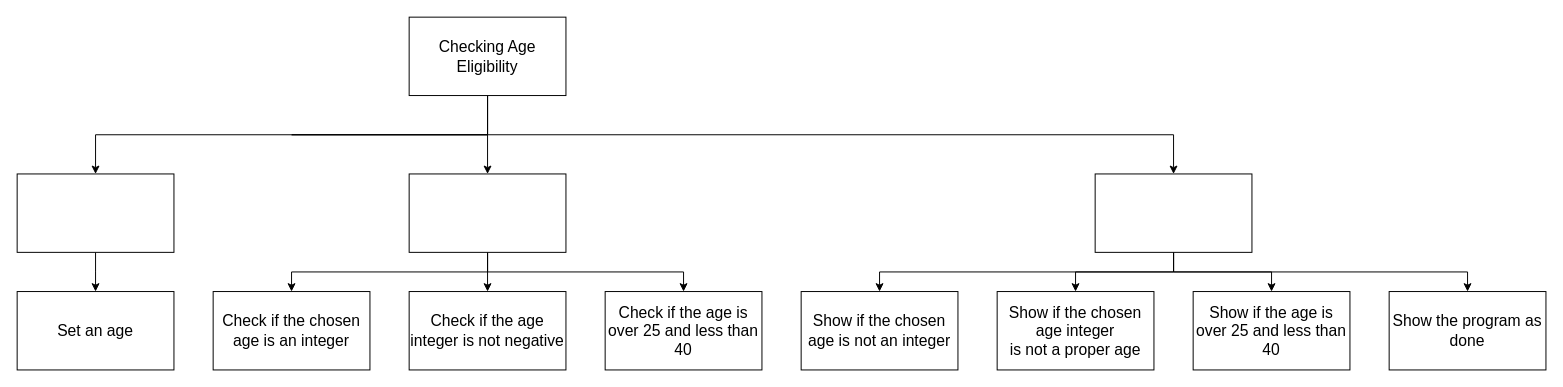
The diagram is 1563 pixels wide and 387 high, and some of its shapes have lost their labels. Each missing label, with the centre of its shape:
"Input" belongs at point 95,212.
"Output" belongs at point 1173,212.
"Process" belongs at point 487,212.
